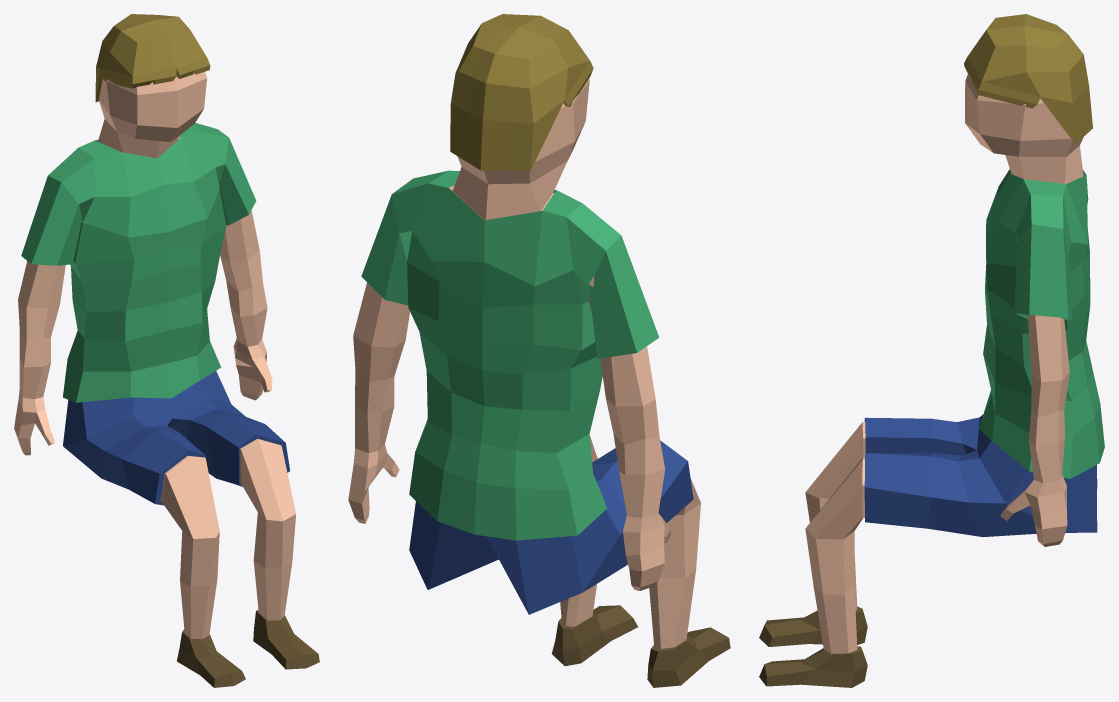
The model's file is boy.fbx.
The picture shows the model from 3 angles, left to right: view 1: azimuth 30°, elevation 25°; view 2: azimuth 150°, elevation 25°; view 3: azimuth 270°, elevation 25°; orthographic projection. The views are drawn at different scales.
Parts seen in each view (by area): view 1: _Boy; view 2: _Boy; view 3: _Boy.
Part boxes in pixels (x1=…): _Boy: x1=14, y1=14, x2=319, y2=687; _Boy: x1=348, y1=14, x2=730, y2=687; _Boy: x1=759, y1=14, x2=1104, y2=687.
Bounding box in the file's own units: 50.95 × 112 × 55.24.
